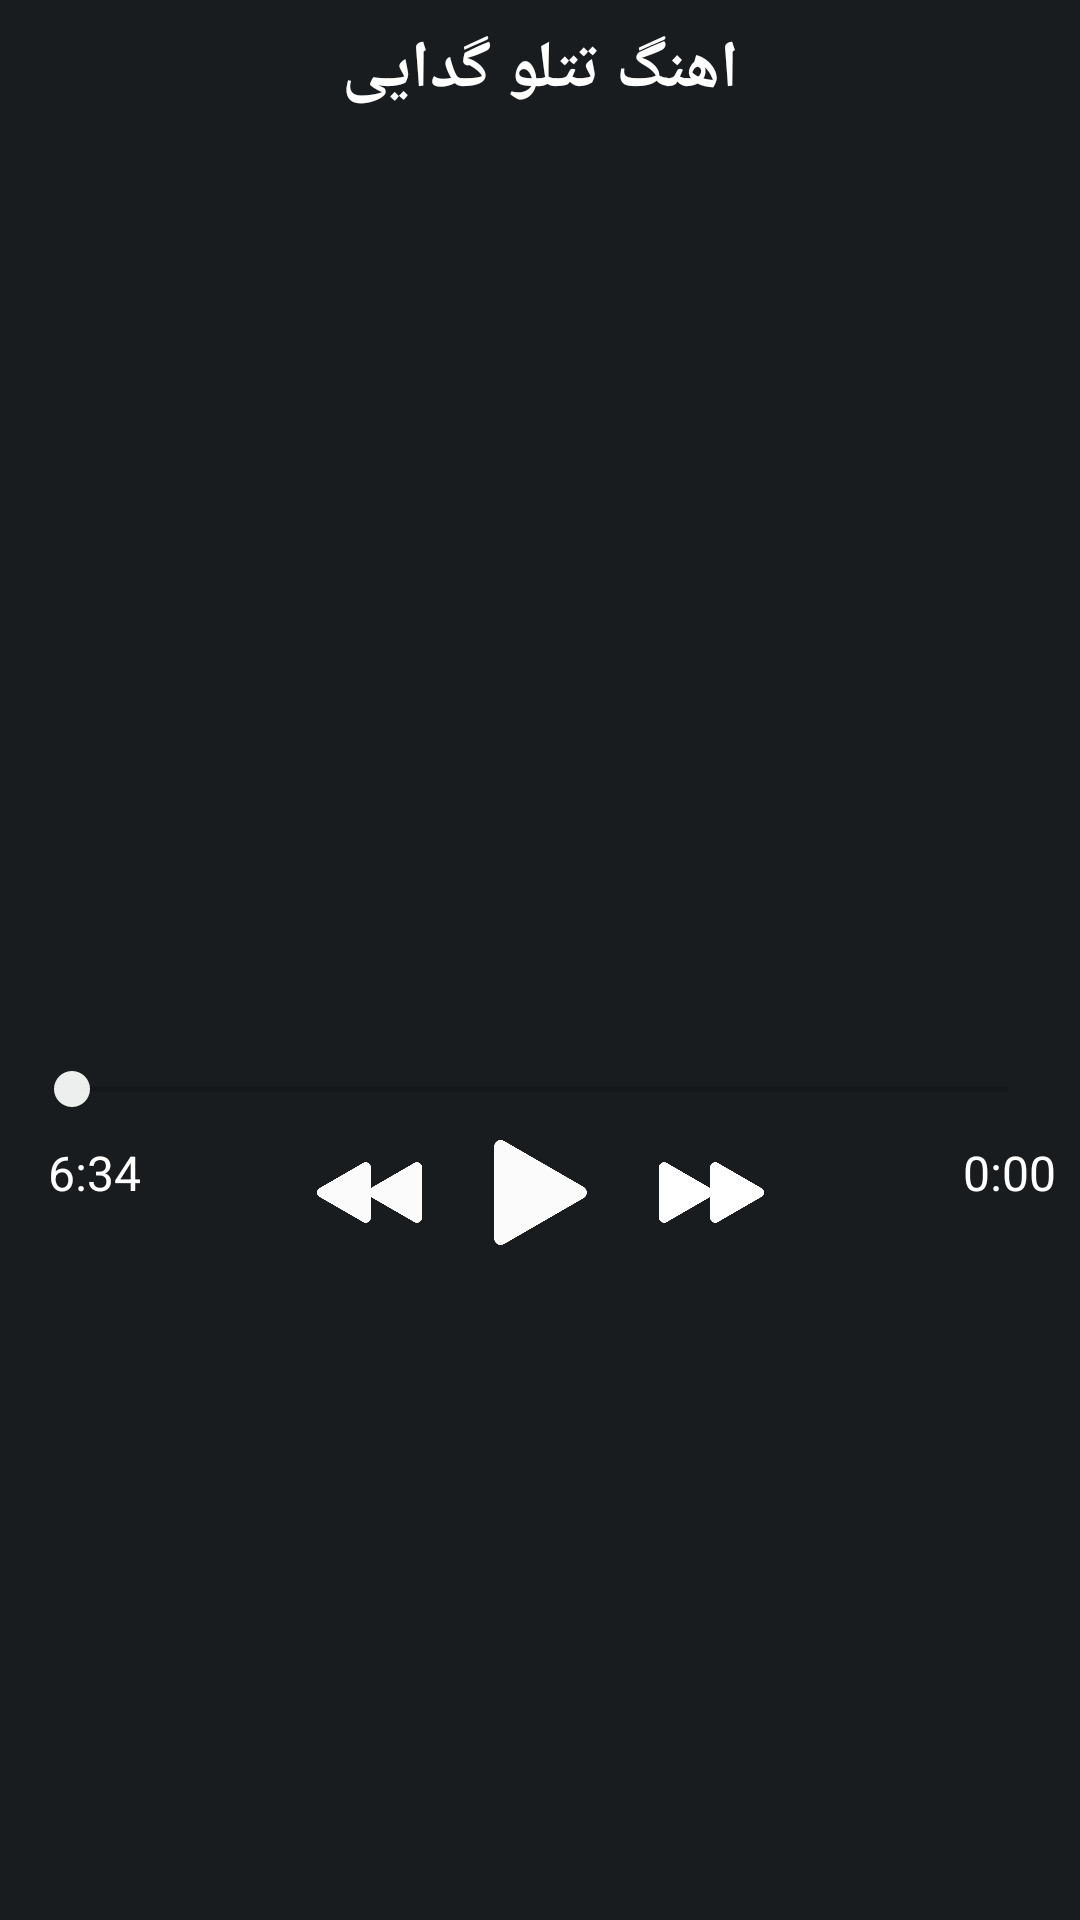

Icons on this 1080×1920 Android screen, each with its box as rect(x1, y1, x2, y2):
befor: rect(317, 1162, 422, 1223)
next: rect(659, 1162, 764, 1223)
play: rect(494, 1140, 587, 1245)
